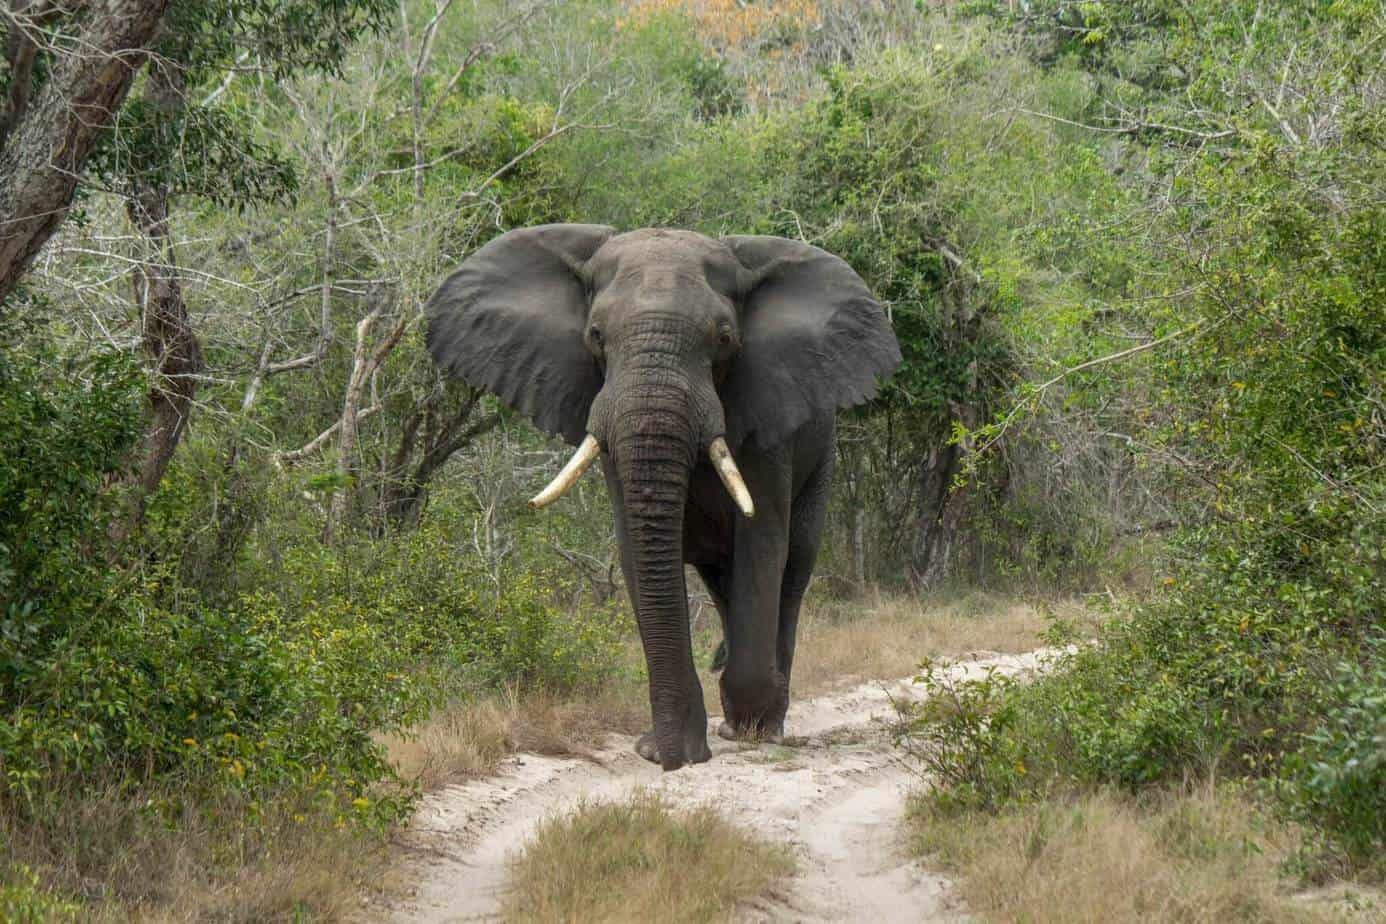elephant: (422, 214, 912, 761)
